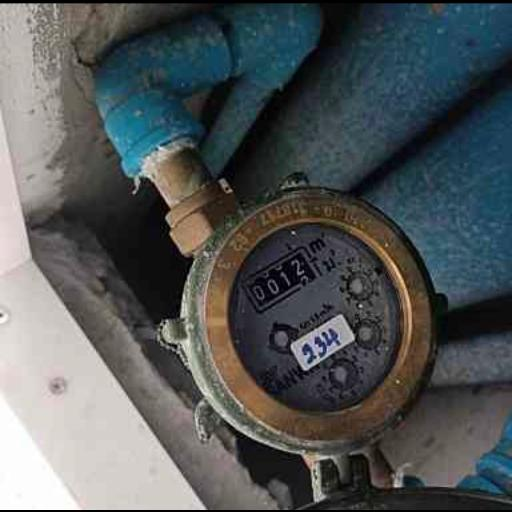0: (246, 276, 273, 307), (259, 268, 286, 299)
1: (271, 260, 299, 291)
2: (286, 250, 318, 286)
border_water_meter_number: (238, 242, 324, 314)
